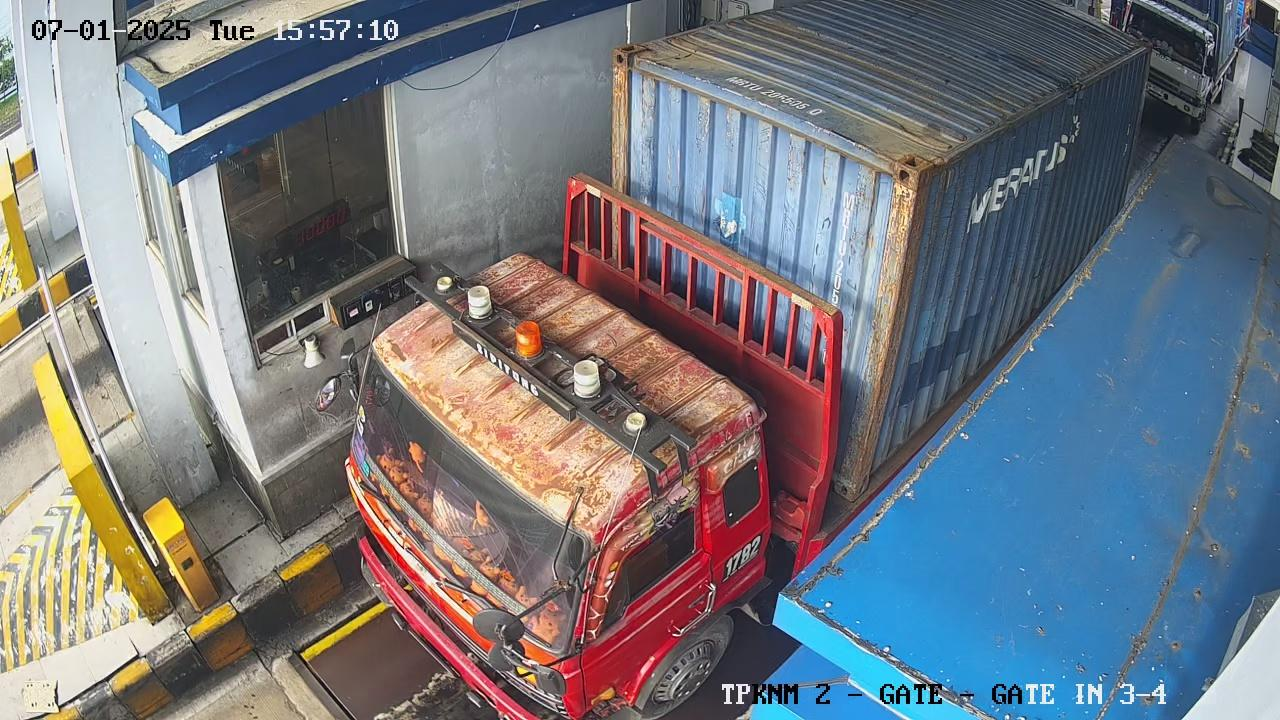Container_ID: (711, 75, 835, 133)
Container_ID_Vertikal: (820, 187, 862, 308)
truck_id: (723, 527, 765, 586)
